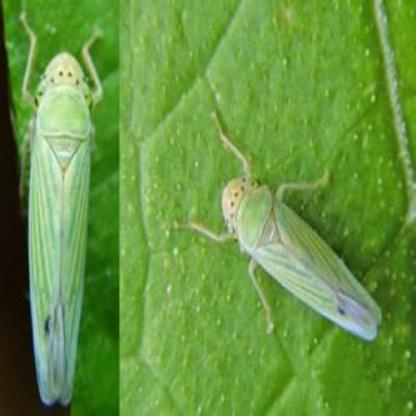Green-Leafhopper: (190, 113, 380, 344), (19, 1, 104, 414)
